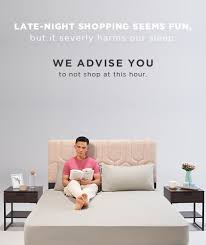bed-matress: (24, 179, 191, 245)
